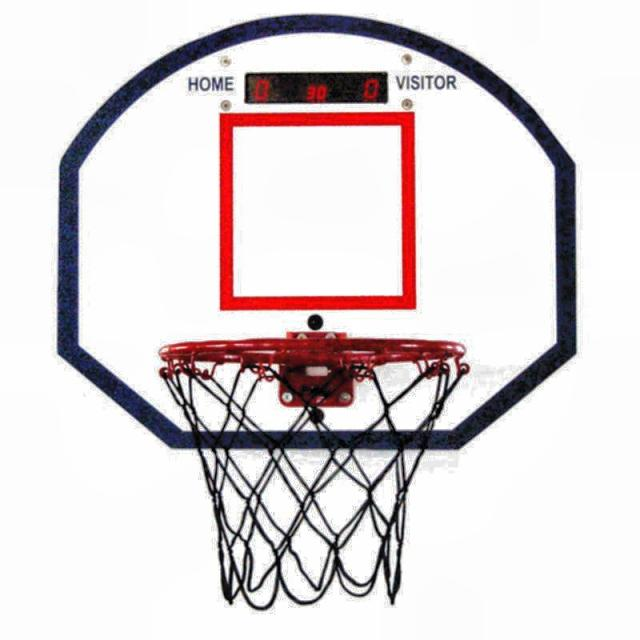rim: (160, 338, 471, 599)
